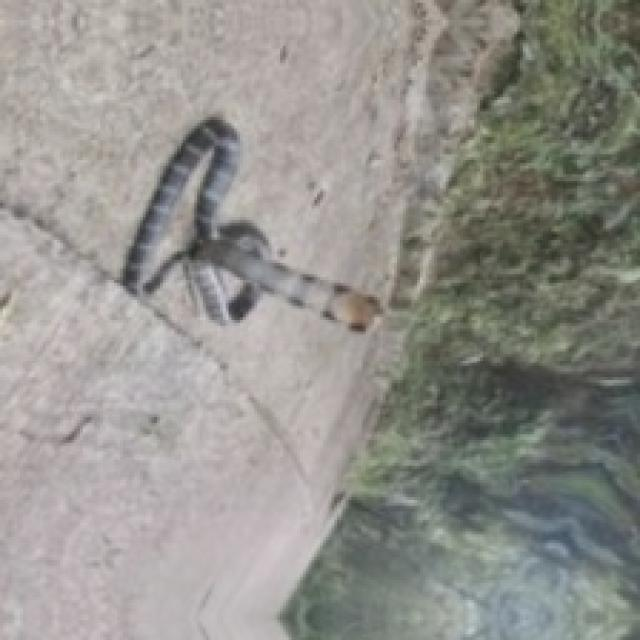king cobra: (123, 117, 380, 329)
